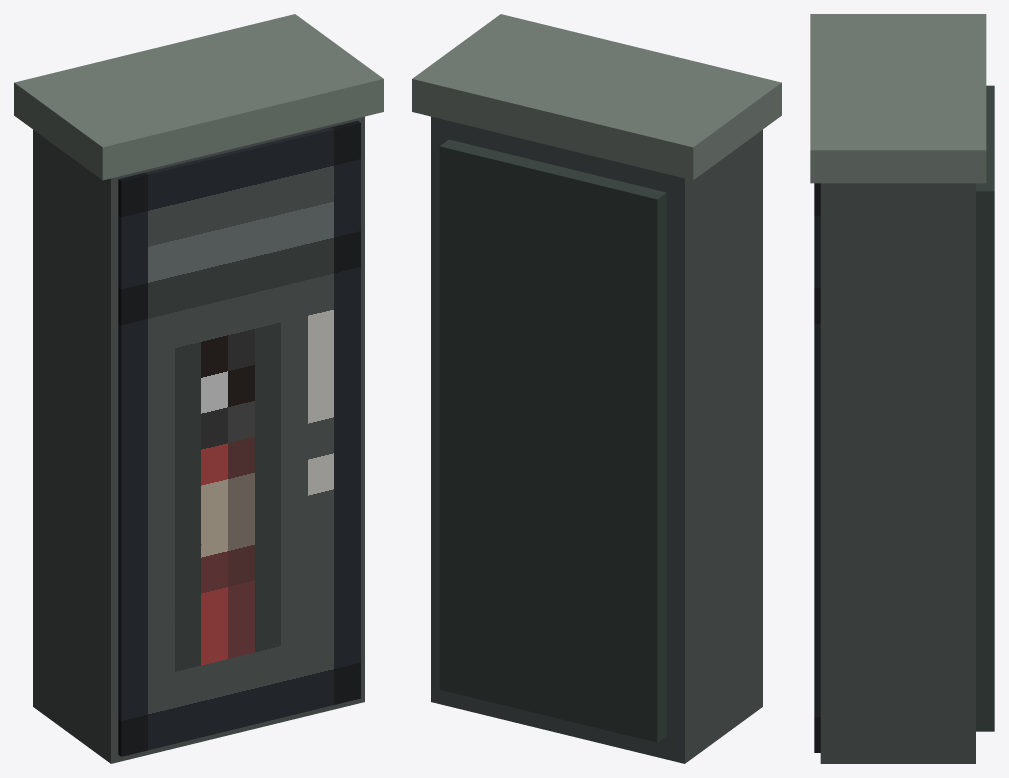
File: CMU3DInteriorVehicleInteriorExtinguisherClosed.glb
The picture shows the model from 3 angles, left to right: view 1: azimuth 30°, elevation 25°; view 2: azimuth 150°, elevation 25°; view 3: azimuth 270°, elevation 25°; orthographic projection.
Parts seen in each view (by area): view 1: source equipment controls, closed equipment casing, reinforced top; view 2: rear service plate, closed equipment casing, reinforced top; view 3: closed equipment casing, reinforced top, rear service plate, source equipment controls.
Boxes of the visible parts, x1,y1,x2,y2 form: source equipment controls: (118, 121, 360, 756); closed equipment casing: (33, 116, 364, 763); reinforced top: (14, 14, 383, 180); rear service plate: (439, 139, 666, 742); closed equipment casing: (431, 116, 762, 763); reinforced top: (412, 14, 781, 180); closed equipment casing: (820, 183, 975, 763); reinforced top: (810, 14, 986, 183); rear service plate: (976, 85, 994, 731); source equipment controls: (814, 183, 820, 752).
Size of the model in its own units: 0.3113 by 0.66 by 0.178.
4 materials, 1 textured.
